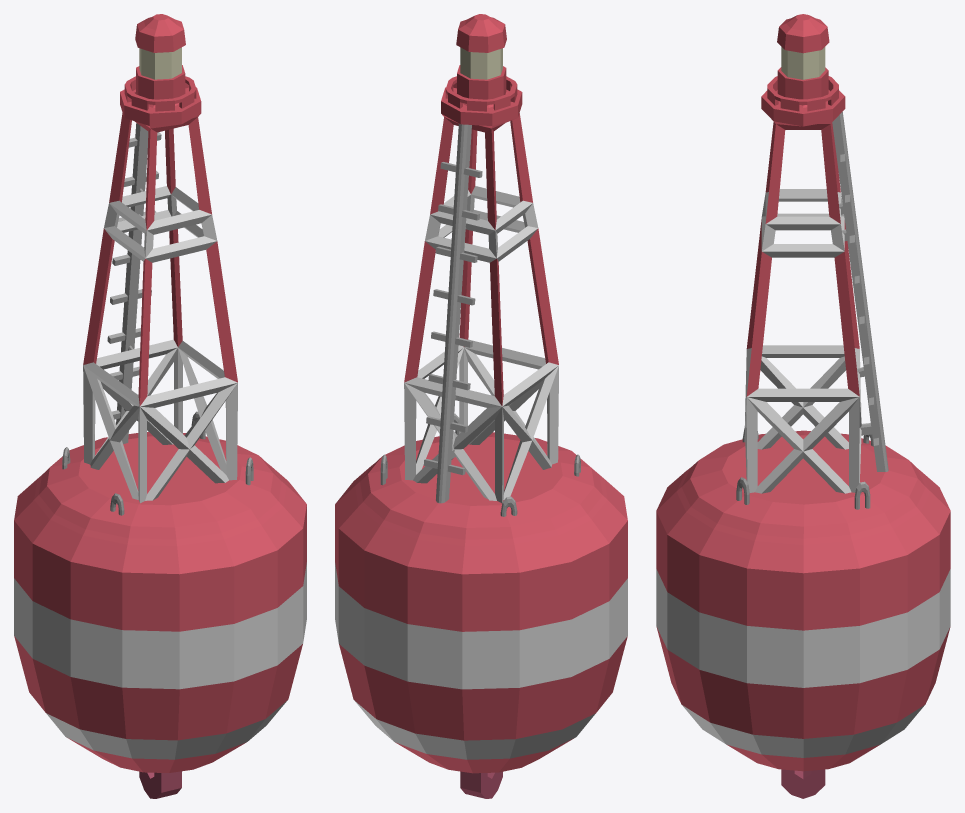
File: boei.fbx
3 renders of one model, left to right at view 1: azimuth 30°, elevation 25°; view 2: azimuth 150°, elevation 25°; view 3: azimuth 270°, elevation 25°, orthographic.
Parts seen in each view (by area): view 1: Boei; view 2: Boei; view 3: Boei.
Boxes of the visible parts, bbox=[...] form: Boei: bbox=[14, 14, 306, 798]; Boei: bbox=[335, 14, 627, 798]; Boei: bbox=[656, 14, 950, 798].
Bounding box in the file's own units: 0.8719 × 2.54 × 0.8719.
